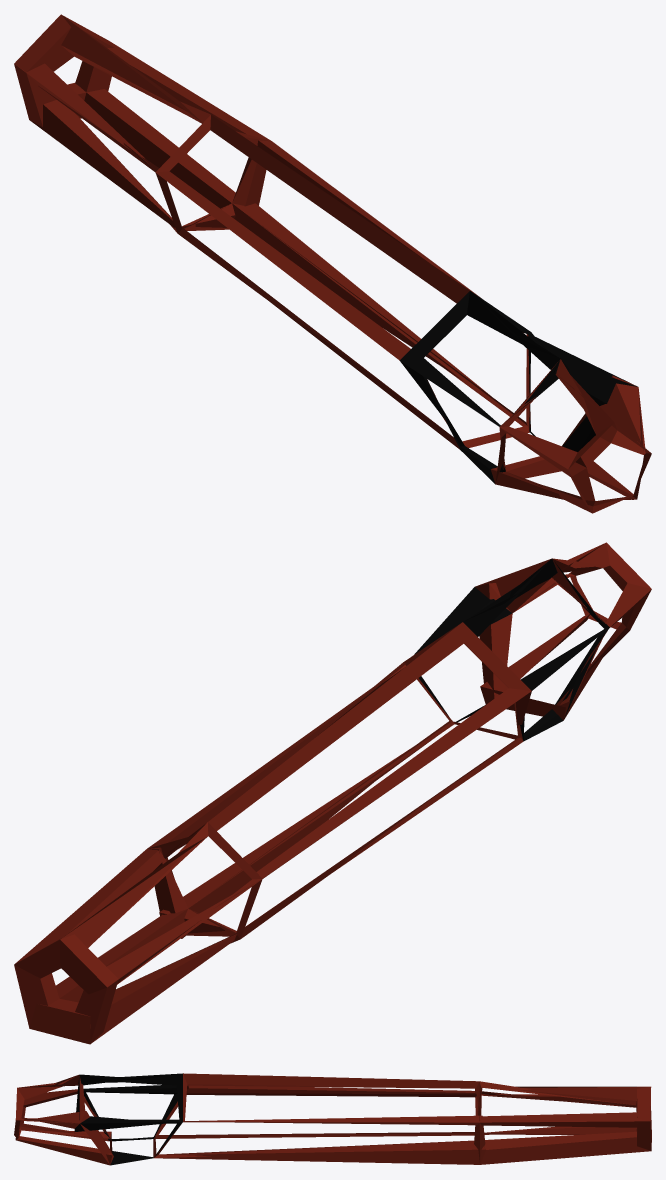
Rendered from CurseRod_Handle.fbx.
The picture shows the model from 3 angles, top to bottom: view 1: azimuth 30°, elevation 25°; view 2: azimuth 150°, elevation 25°; view 3: azimuth 270°, elevation 25°; orthographic projection. The views are drawn at different scales.
Visible parts, largest first — view 1: CurseRod_Handle; view 2: CurseRod_Handle; view 3: CurseRod_Handle.
Part boxes in pixels (left/top/right/bottom): CurseRod_Handle: left=14, top=14, right=651, bottom=513; CurseRod_Handle: left=14, top=542, right=651, bottom=1044; CurseRod_Handle: left=14, top=1073, right=651, bottom=1165.
Size of the model in its own units: 0.1833 by 0.1664 by 1.19.
